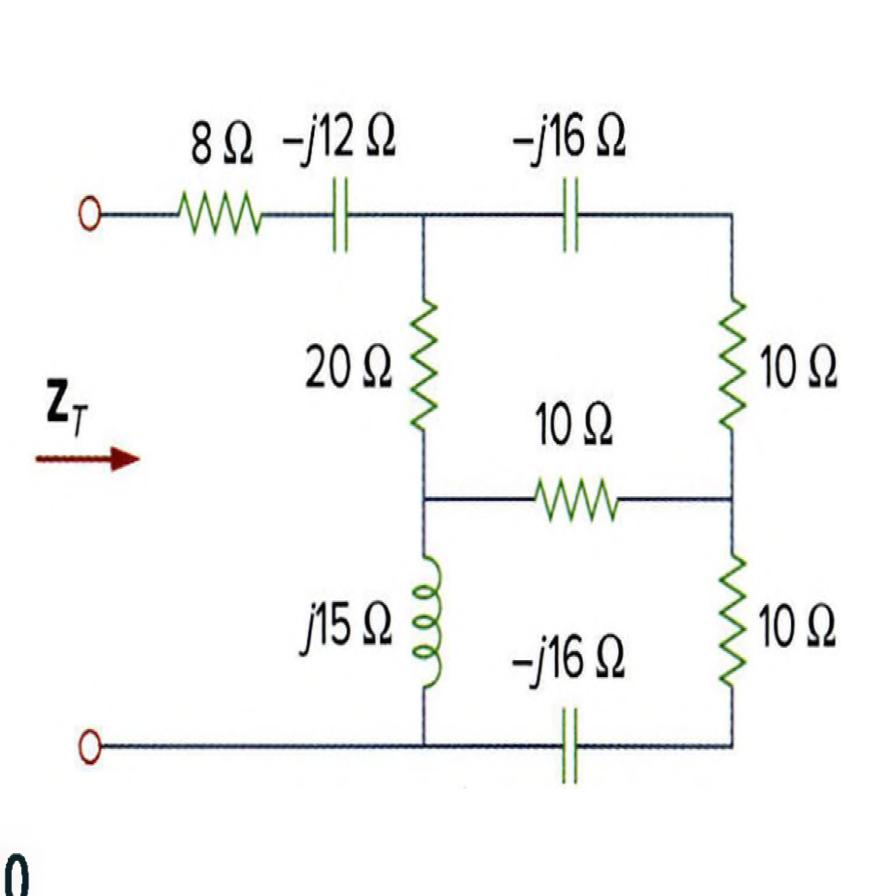C1: (314, 165, 368, 275), (543, 696, 595, 794), (548, 169, 594, 276)
L2: (400, 535, 460, 712)
